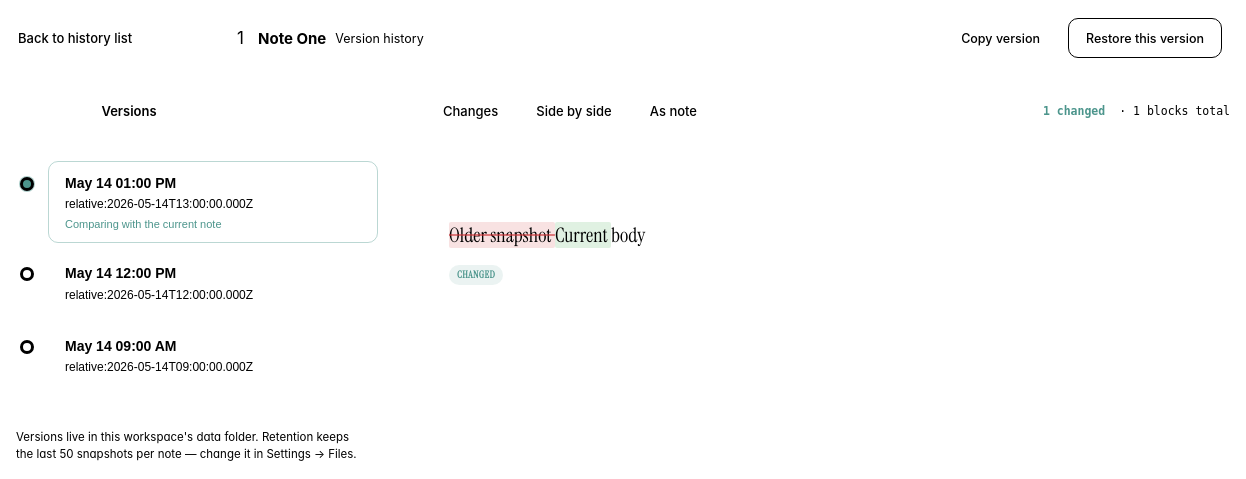
Scenario: HistoryView › after restore the recovery version is selected and badged
The width and height of the screenshot is (1246, 479).
Click the button with class "nv-btn--primary".
click(1145, 38)  # box [1068,18,1222,58]
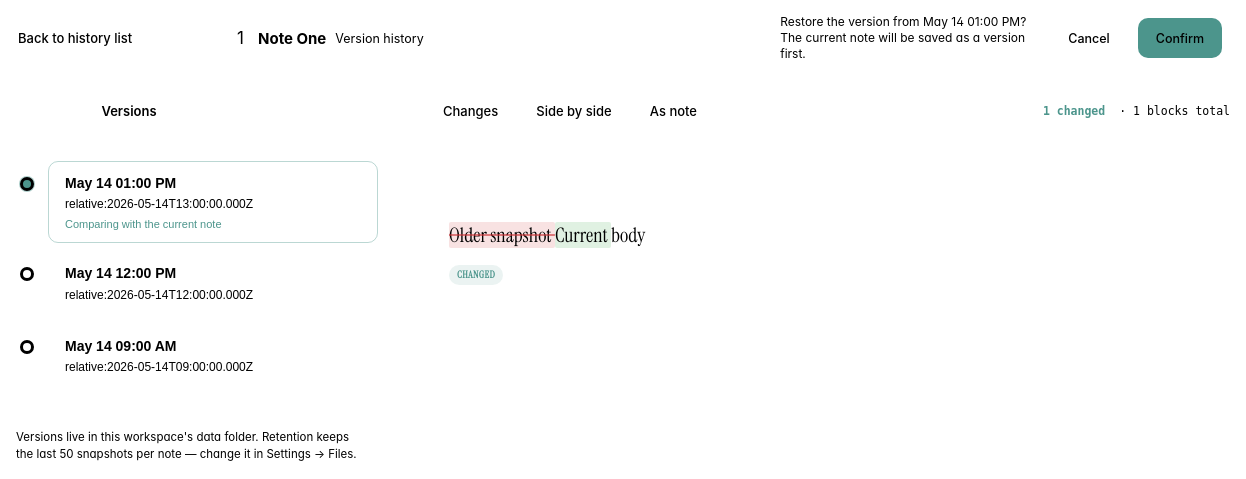
Click the button with class "nv-btn--primary".
click(1180, 38)  # box [1138,18,1222,58]
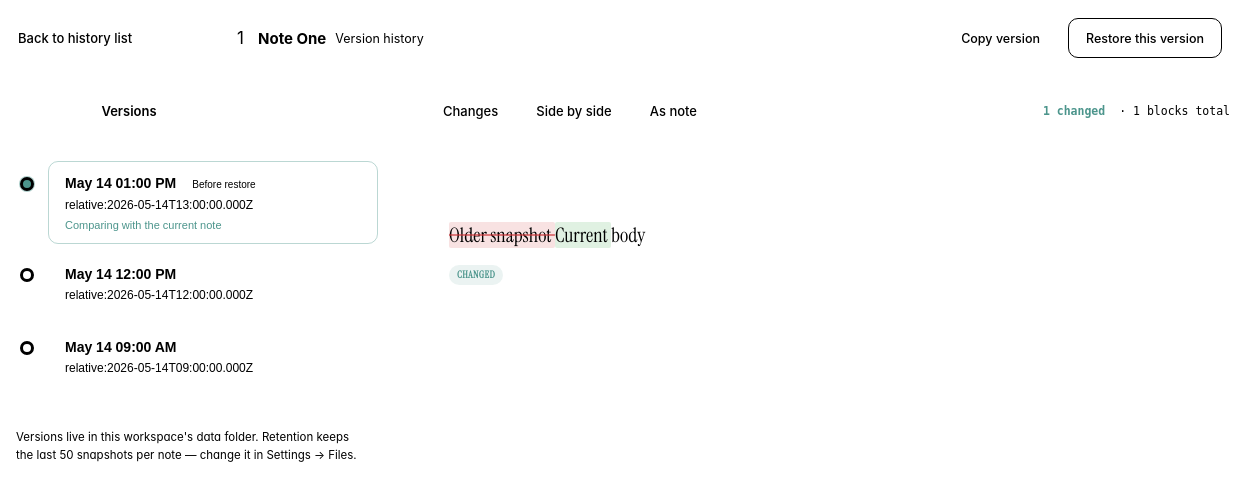
expect the button with class "history-timeline__entry" shows "Before restore": met, box [20,161,378,244]
